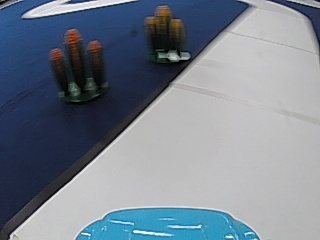corn: (49, 27, 108, 105), (143, 2, 188, 63)
